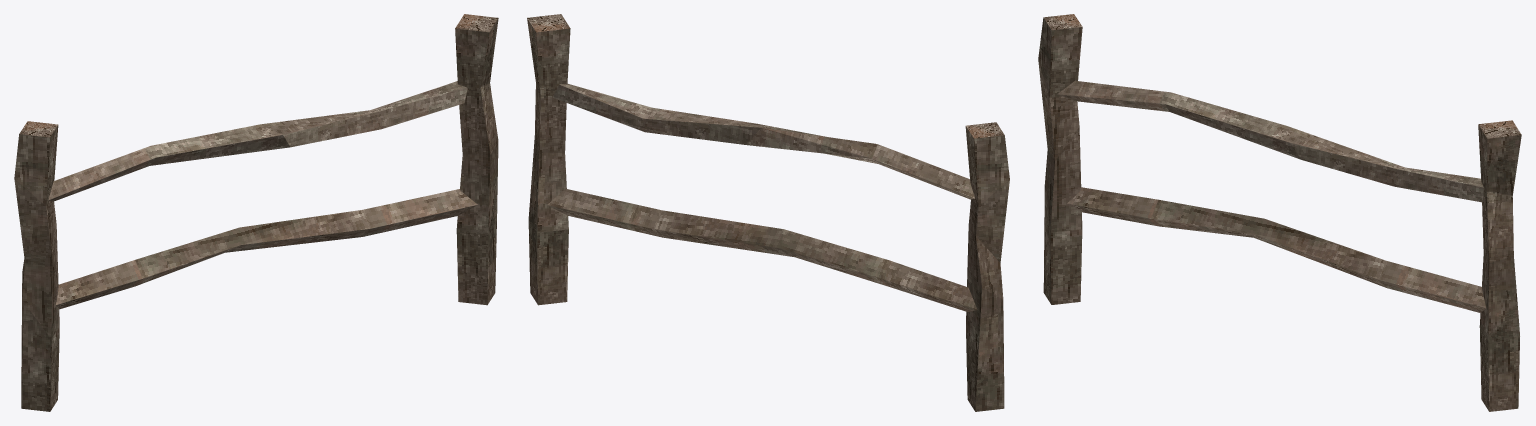
File: wooden_fence_closed.glb
3 renders of one model, left to right at view 1: azimuth 30°, elevation 25°; view 2: azimuth 150°, elevation 25°; view 3: azimuth 330°, elevation 25°, orthographic.
Parts seen in each view (by area): view 1: wooden_fence_closed; view 2: wooden_fence_closed; view 3: wooden_fence_closed.
Part boxes in pixels (bbox=[...]): wooden_fence_closed: bbox=[14, 14, 498, 411]; wooden_fence_closed: bbox=[527, 14, 1009, 411]; wooden_fence_closed: bbox=[1038, 14, 1521, 411].
Bounding box in the file's own units: 2.77 × 1.5 × 0.2489.
Materials: 1 (1 with a texture image).
